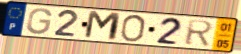2: (153, 16, 185, 47), (53, 8, 80, 40)
G: (26, 7, 54, 36)
M: (82, 9, 123, 43)
O: (118, 14, 147, 43)
R: (183, 19, 215, 47)
